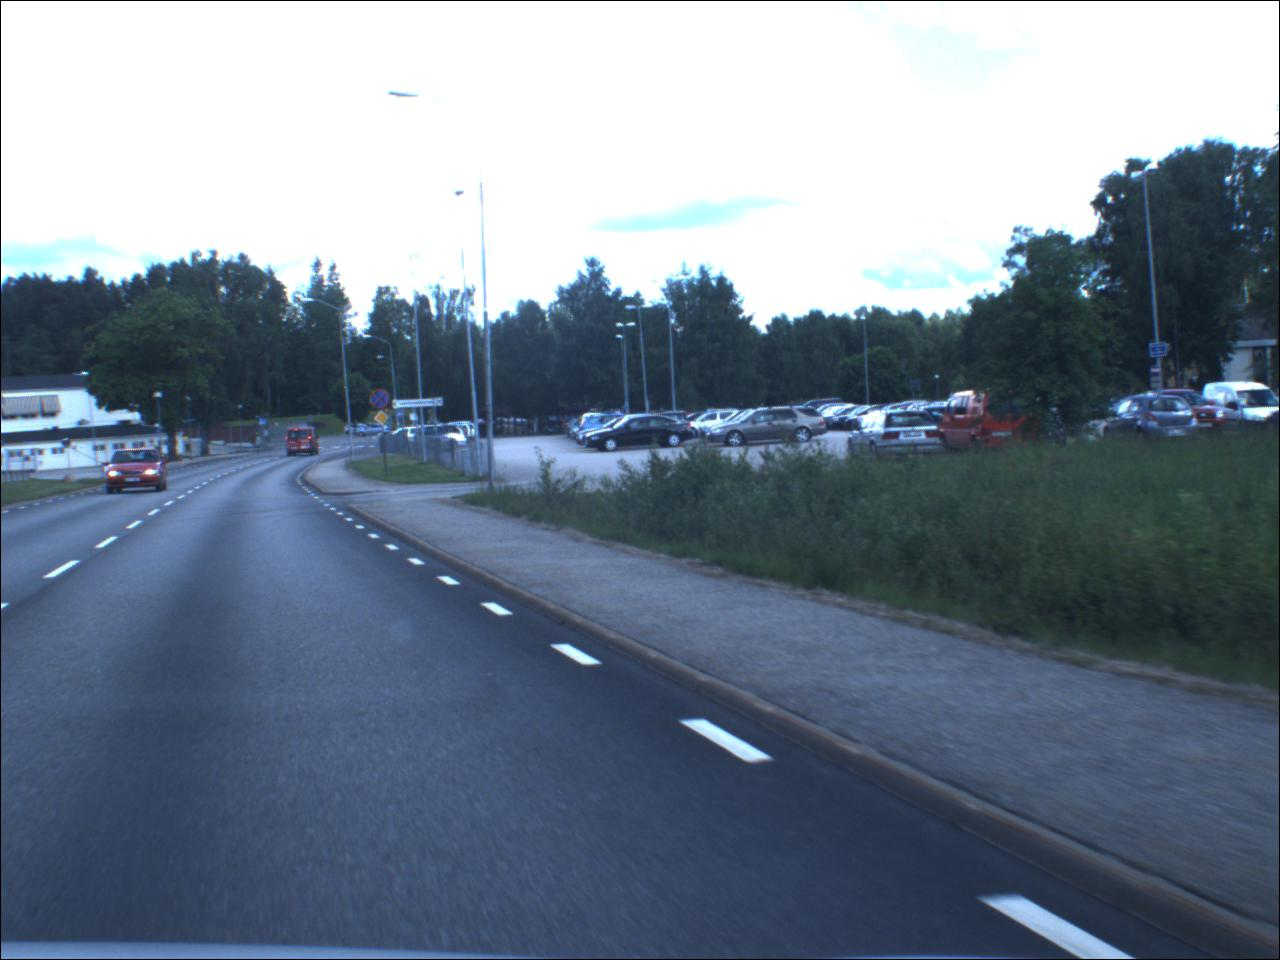NO_STOPPING_NO_STANDING: (371, 390, 394, 412)
PRIORITY_ROAD: (376, 412, 394, 428)
